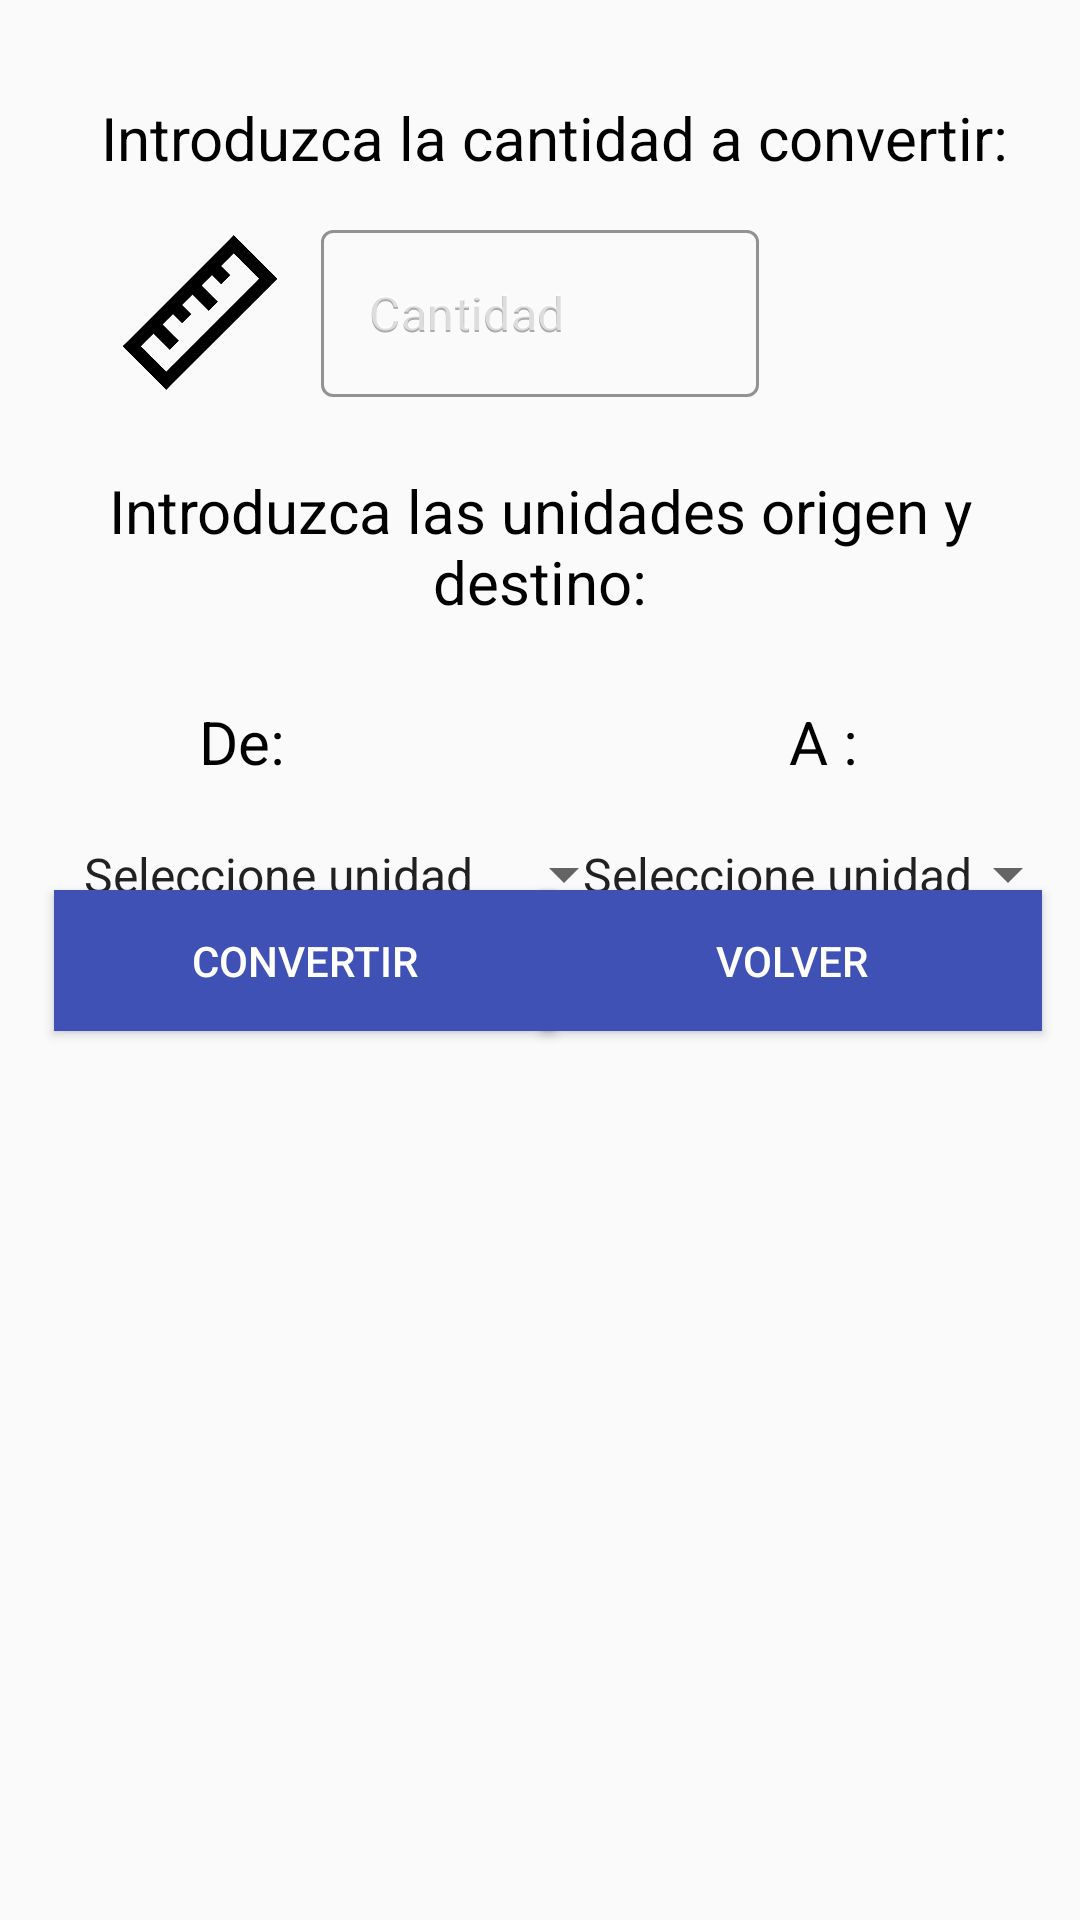

Icons on this 1080x1920 Android screen, each with its box as rect(x1, y1, x2, y2):
Imagen de regla: rect(123, 235, 277, 390)
